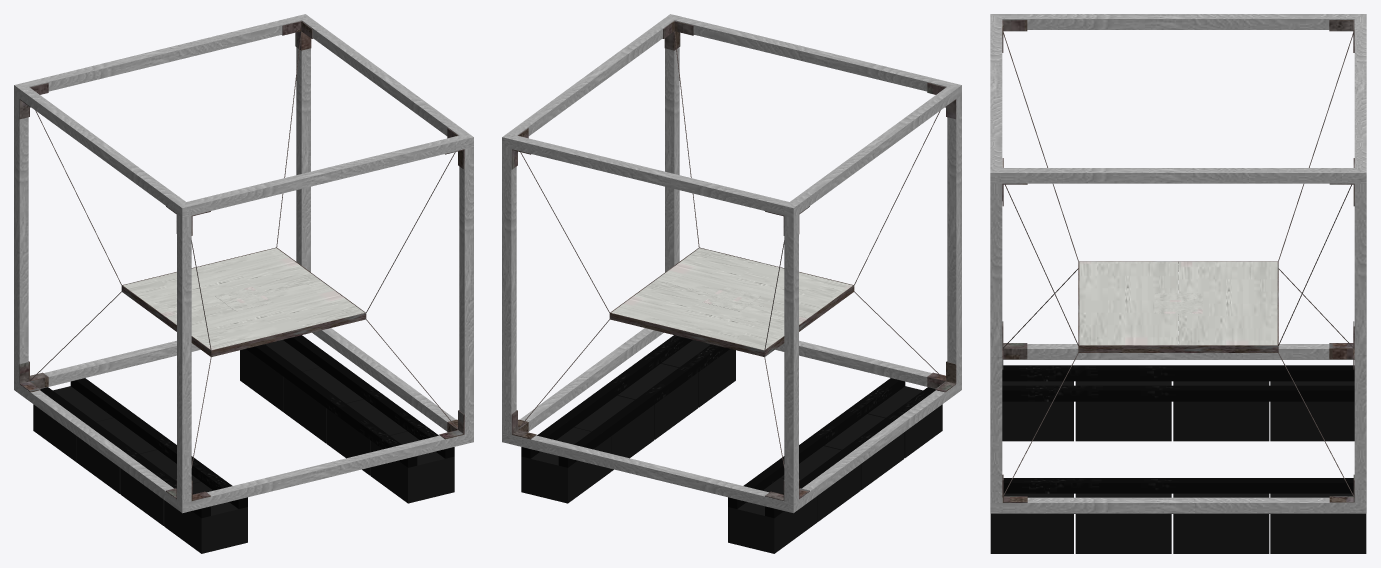
The model's file is jens_flotte.glb.
3 renders of one model, left to right at view 1: azimuth 30°, elevation 25°; view 2: azimuth 150°, elevation 25°; view 3: azimuth 270°, elevation 25°, orthographic. The views are drawn at different scales.
Parts seen in each view (by area): view 1: object_24.001; view 2: object_24.001; view 3: object_24.001.
Part boxes in pixels (x1,y1,x2,y2): object_24.001: (14, 14, 473, 553); object_24.001: (502, 14, 961, 553); object_24.001: (990, 14, 1366, 553).
Size of the model in its own units: 47 by 54 by 47.
Materials: 1 (1 with a texture image).
